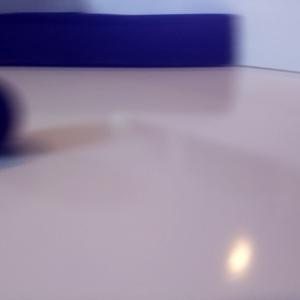zone: (1, 12, 232, 68)
